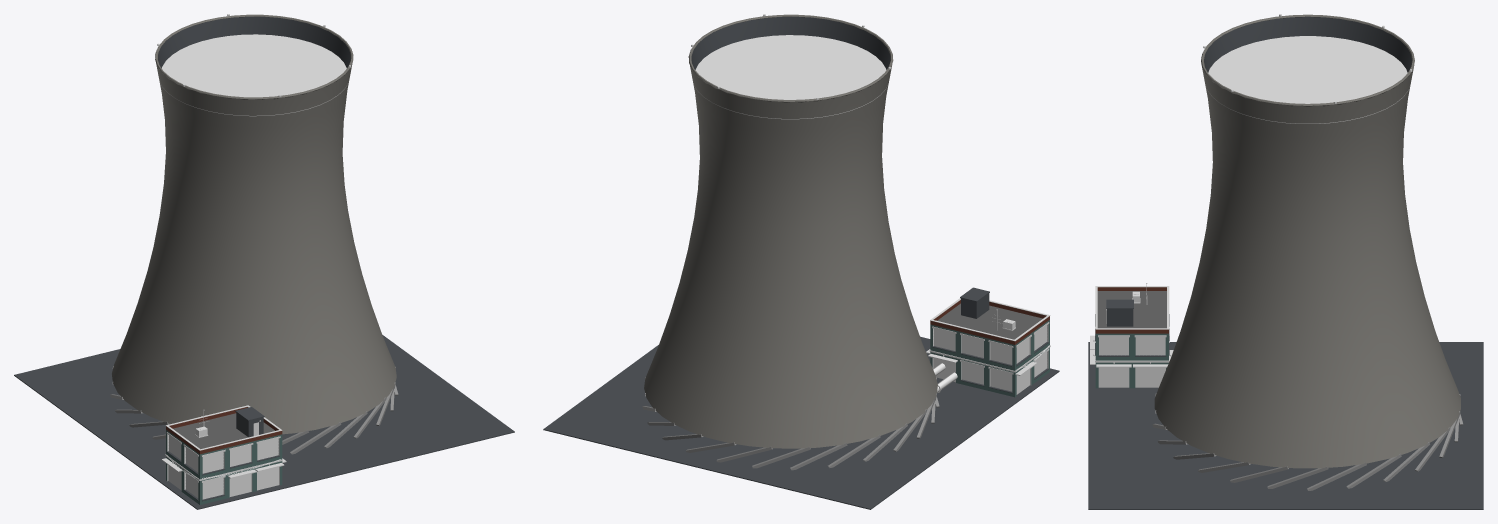
The model's file is LM_FR_CoolingTower.fbx.
The picture shows the model from 3 angles, left to right: view 1: azimuth 30°, elevation 25°; view 2: azimuth 150°, elevation 25°; view 3: azimuth 270°, elevation 25°; orthographic projection. The views are drawn at different scales.
Visible parts, largest first — view 1: LM_FR_CoolingTower_LOD0; view 2: LM_FR_CoolingTower_LOD0; view 3: LM_FR_CoolingTower_LOD0.
Boxes of the visible parts, box(x1,y1,x2,y2) form: LM_FR_CoolingTower_LOD0: box(14, 14, 514, 509); LM_FR_CoolingTower_LOD0: box(543, 14, 1059, 509); LM_FR_CoolingTower_LOD0: box(1088, 14, 1483, 509).
Size of what is drawn, in the model's own units: 54 by 55.61 by 54.
